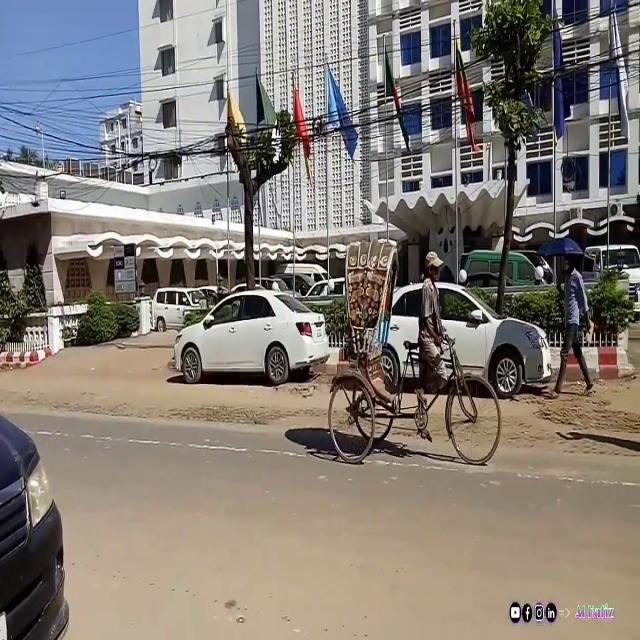white: (364, 280, 548, 394), (174, 288, 324, 387)
